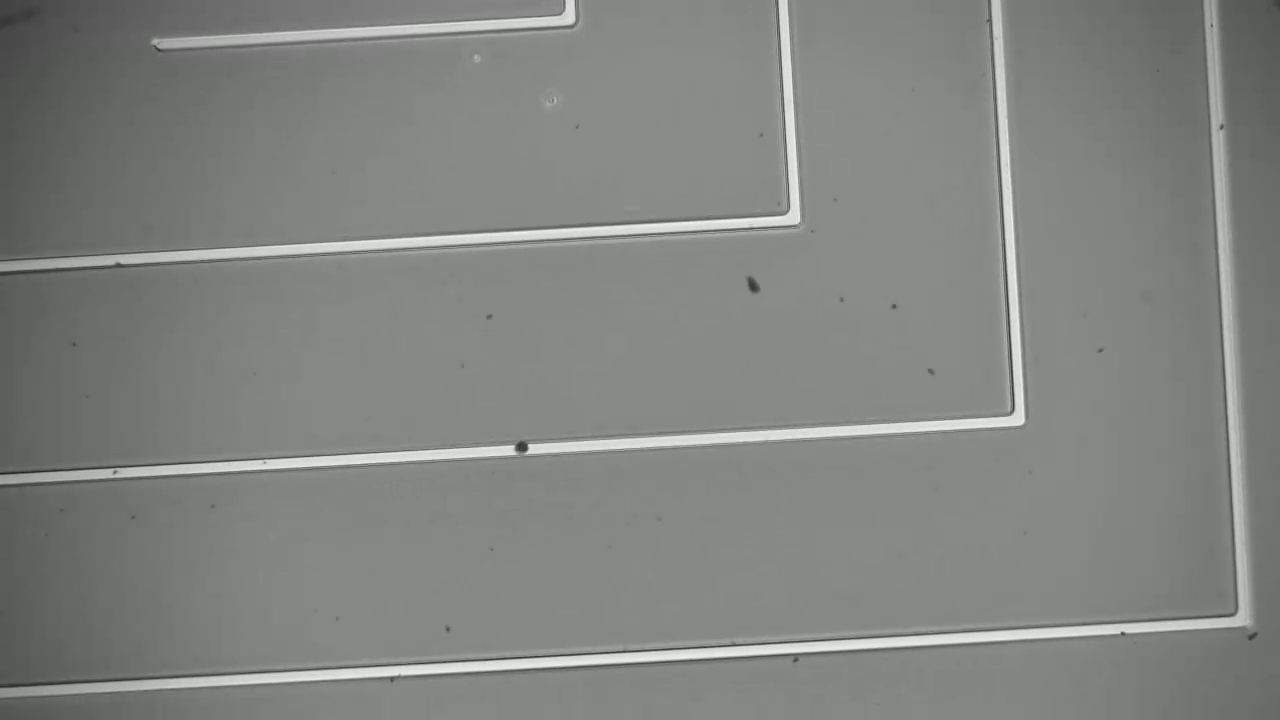stains_enbedded: (509, 432, 538, 464)
